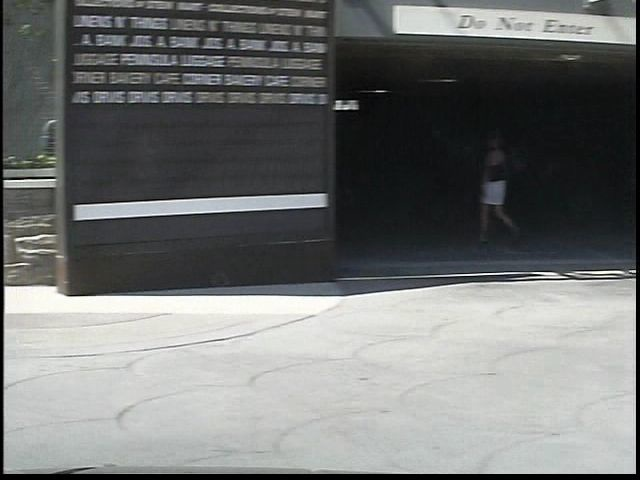person: (450, 128, 509, 249)
